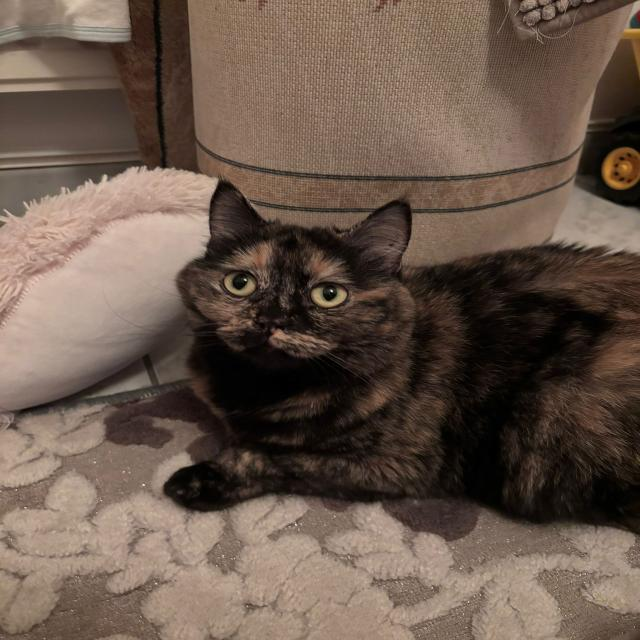authorized: (162, 176, 639, 530)
